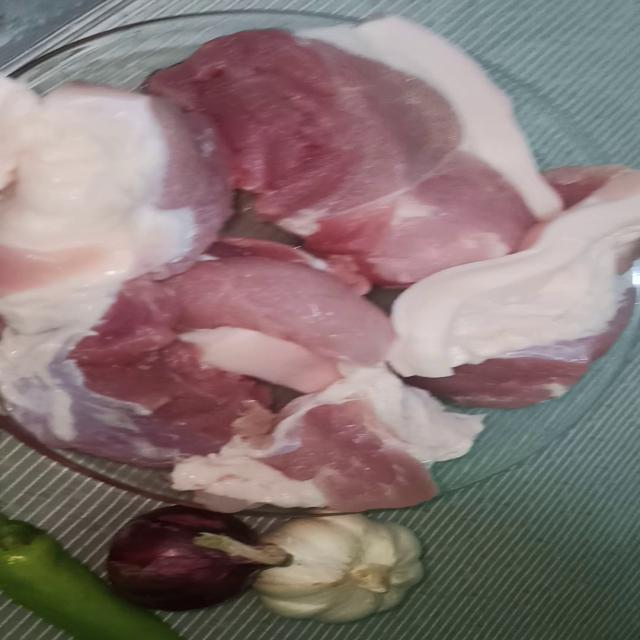chili_pepper: (0, 488, 184, 640)
garlic: (246, 485, 489, 628)
onion: (39, 504, 297, 604)
pork: (169, 37, 527, 265), (376, 170, 625, 380), (204, 368, 501, 530), (0, 67, 234, 265), (0, 254, 356, 369), (0, 348, 293, 459)
